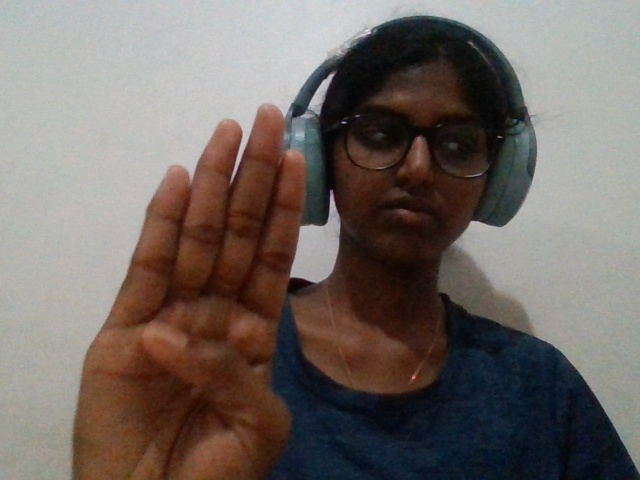B: (55, 86, 312, 480)
